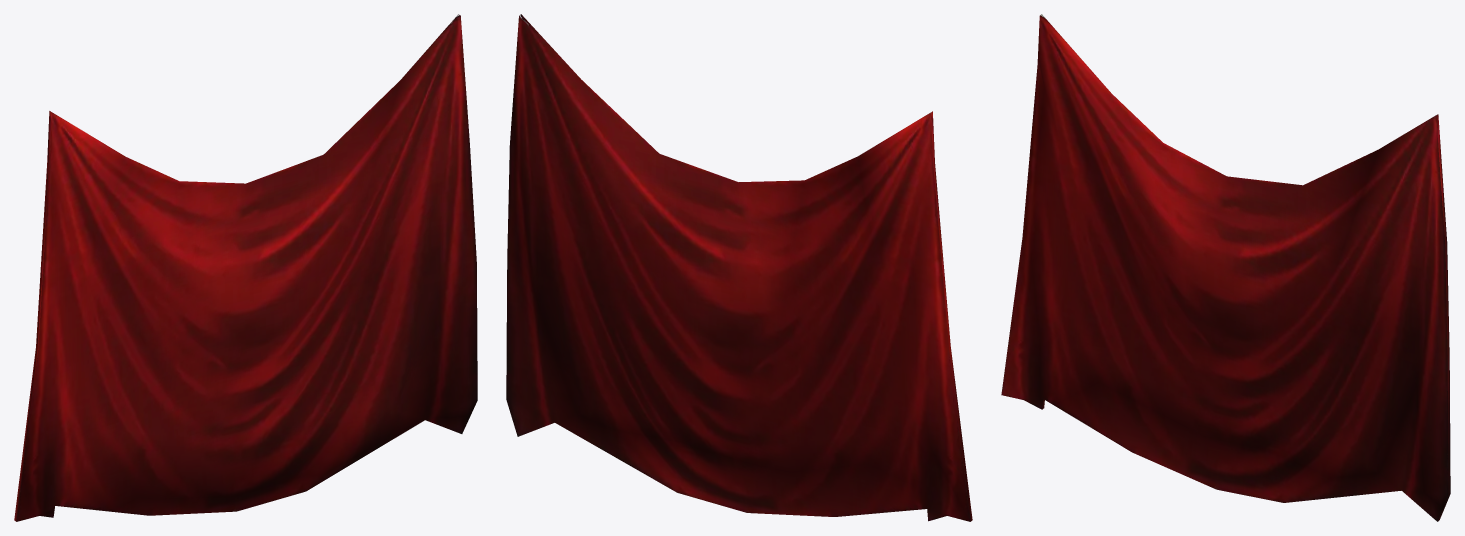
File: KM_VOB_CURTAIN_02.glb
3 views of the same model, side by side, from view 1: azimuth 30°, elevation 25°; view 2: azimuth 150°, elevation 25°; view 3: azimuth 330°, elevation 25° (orthographic). The views are drawn at different scales.
Visible parts, largest first — view 1: Mesh; view 2: Mesh; view 3: Mesh.
Boxes of the visible parts, bbox=[...] form: Mesh: bbox=[14, 14, 477, 521]; Mesh: bbox=[506, 14, 972, 521]; Mesh: bbox=[1001, 14, 1450, 521].
Size of the model in its own units: 2.39 by 2.2 by 0.081.
Materials: 1 (1 with a texture image).
